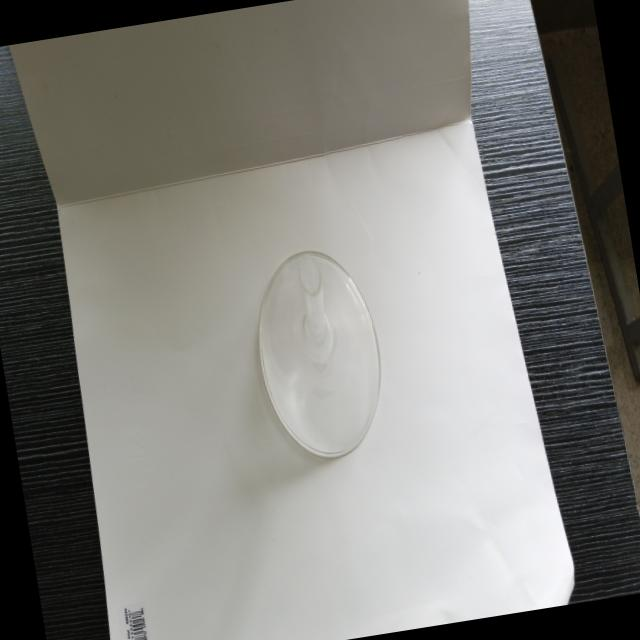funnel: (238, 235, 396, 474)
